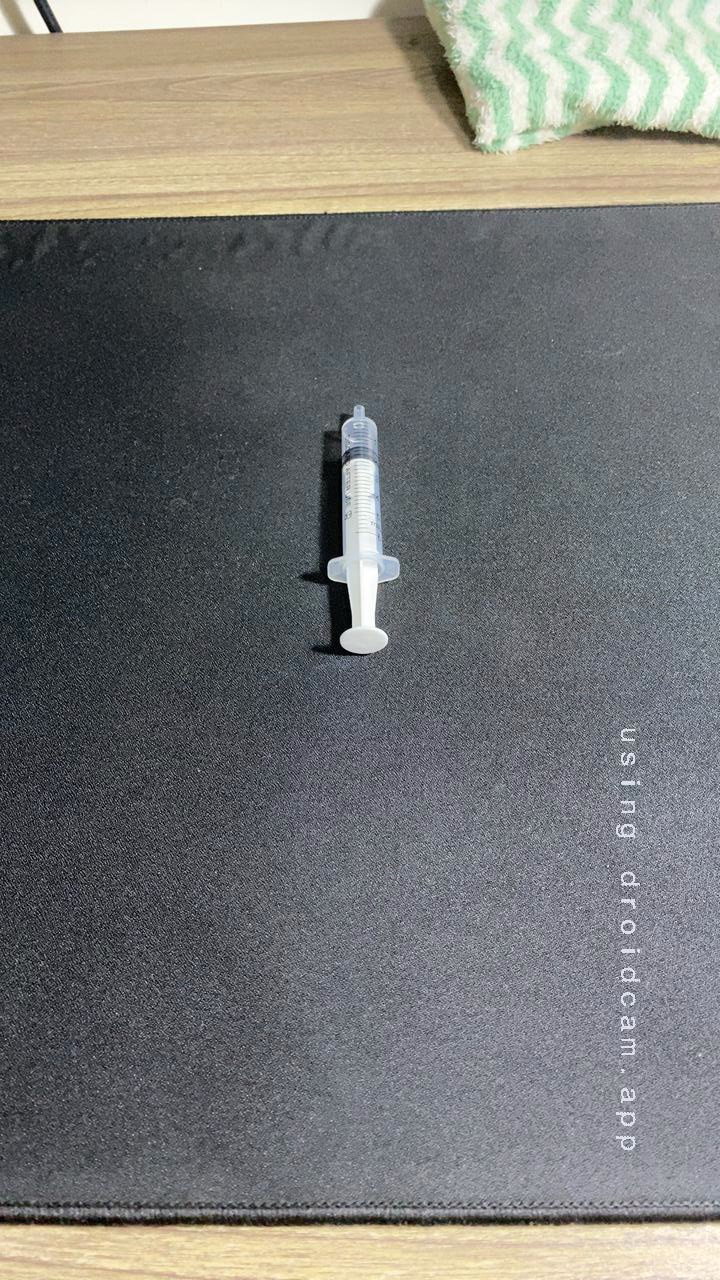syringe: (294, 385, 420, 664)
